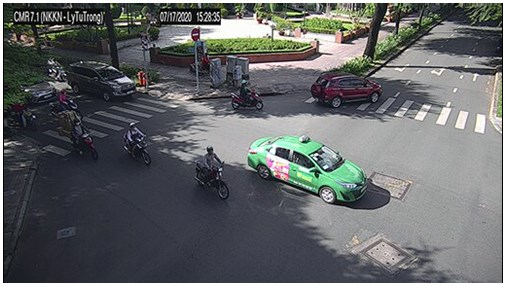xe_hoi: (67, 61, 137, 100), (311, 71, 383, 105), (23, 81, 56, 101)
xe_may: (62, 113, 101, 161), (194, 145, 229, 198), (122, 121, 151, 166), (232, 80, 265, 111), (52, 90, 79, 116), (17, 103, 38, 134)
xe_taxi: (248, 135, 368, 203)
